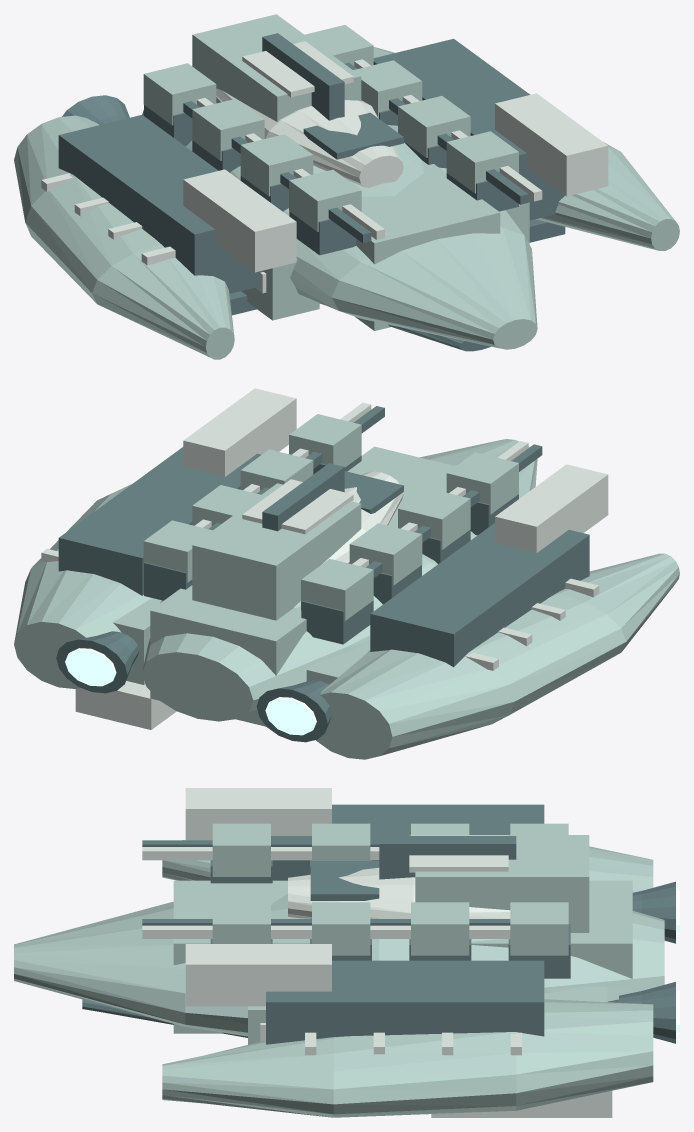
The picture shows the model from 3 angles, top to bottom: view 1: azimuth 30°, elevation 25°; view 2: azimuth 150°, elevation 25°; view 3: azimuth 270°, elevation 25°; orthographic projection. The views are drawn at different scales.
Size of the model in its own units: 20.36 by 7.26 by 21.47.
